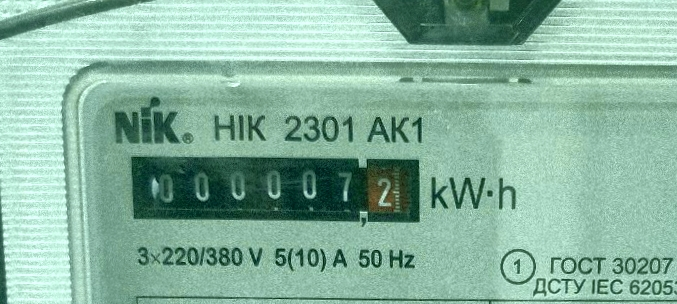0: (225, 166, 249, 205), (154, 170, 177, 205), (297, 166, 319, 202), (263, 167, 284, 204), (191, 168, 212, 204)
2: (373, 174, 395, 211)
7: (333, 167, 355, 206)
screen: (124, 146, 429, 232)
